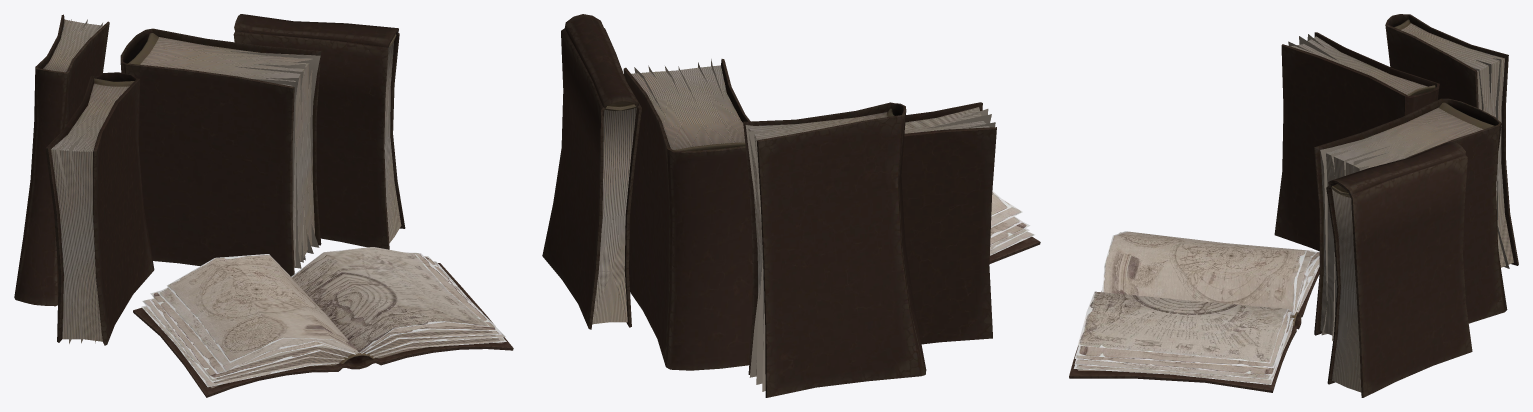
File: sf-old-books.glb
3 renders of one model, left to right at view 1: azimuth 30°, elevation 25°; view 2: azimuth 150°, elevation 25°; view 3: azimuth 270°, elevation 25°, orthographic. The views are drawn at different scales.
Visible parts, largest first — view 1: Object_12, Object_16, Object_4, Object_10, Object_7, Object_18, Object_5; view 2: Object_7, Object_12, Object_10, Object_4, Object_5, Object_16, Object_18; view 3: Object_10, Object_16, Object_12, Object_4, Object_7, Object_18, Object_5.
Part boxes in pixels (bbox=[...]): Object_12: bbox=[120, 28, 321, 276]; Object_16: bbox=[141, 247, 506, 387]; Object_4: bbox=[45, 72, 154, 345]; Object_10: bbox=[233, 14, 405, 249]; Object_7: bbox=[14, 14, 109, 306]; Object_18: bbox=[133, 263, 513, 397]; Object_5: bbox=[56, 19, 320, 343]; Object_7: bbox=[743, 102, 926, 397]; Object_12: bbox=[623, 59, 752, 370]; Object_10: bbox=[542, 14, 641, 329]; Object_4: bbox=[901, 102, 996, 344]; Object_5: bbox=[634, 59, 995, 391]; Object_16: bbox=[990, 191, 1034, 255]; Object_18: bbox=[989, 236, 1040, 263]; Object_10: bbox=[1326, 141, 1472, 397]; Object_16: bbox=[1073, 231, 1319, 384]; Object_12: bbox=[1314, 98, 1507, 335]; Object_4: bbox=[1274, 32, 1439, 251]; Object_7: bbox=[1385, 14, 1518, 267]; Object_18: bbox=[1069, 267, 1319, 392]; Object_5: bbox=[1288, 34, 1509, 340].
Bounding box in the file's own units: 0.3052 × 0.176 × 0.32.
Materials: 7 (6 with a texture image).
